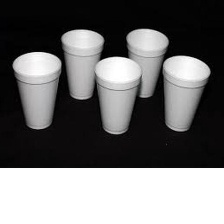paper_cup: (7, 48, 66, 132), (157, 50, 213, 135), (90, 52, 145, 138), (122, 23, 171, 102), (57, 24, 106, 102)
